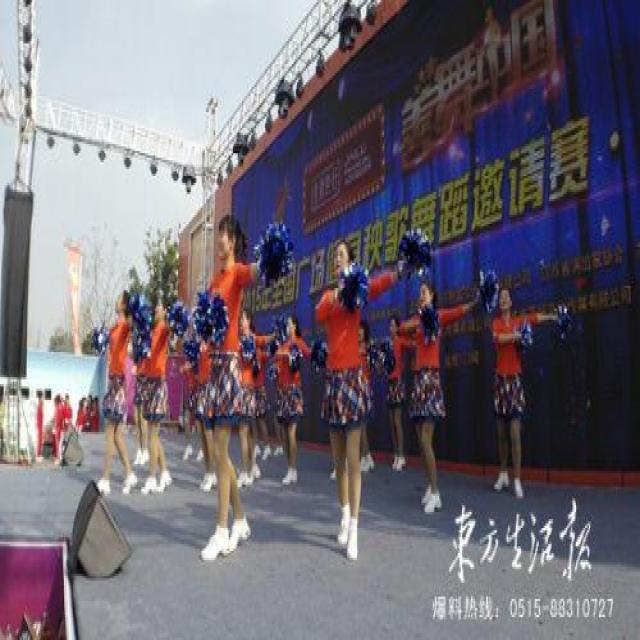non-fight: (314, 239, 404, 564), (189, 208, 265, 568)
